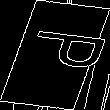P_E: (6, 32, 104, 78)
